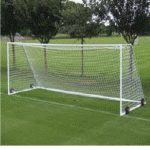goals: (4, 39, 146, 117)
